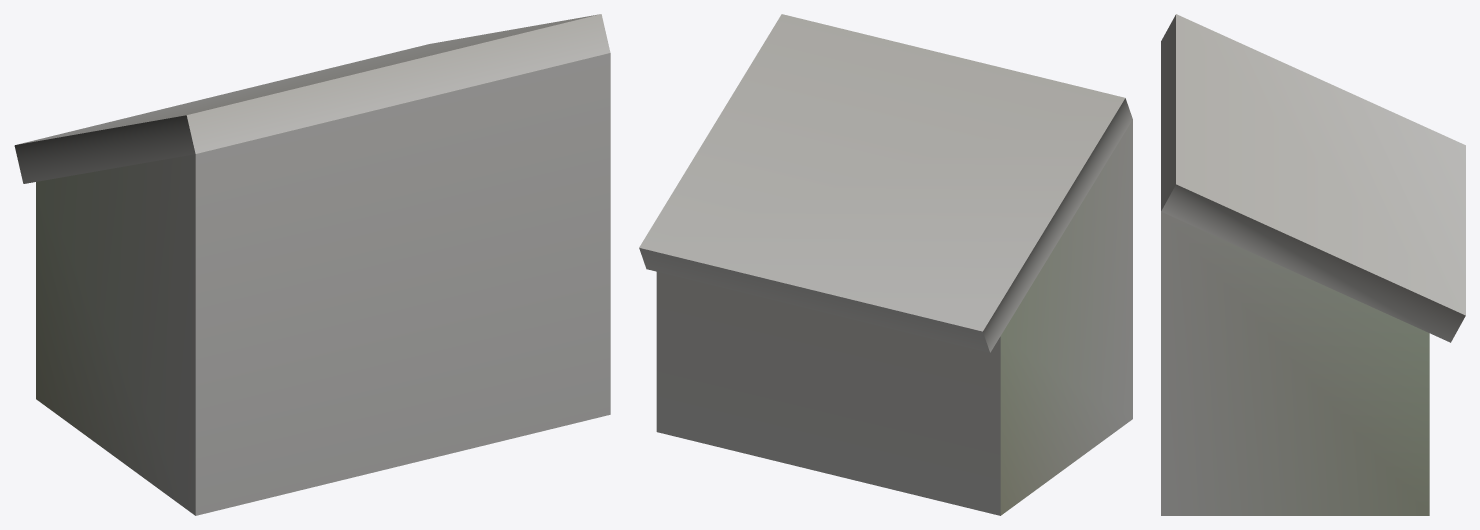
Rendered from detail-dumpster-closed.glb.
3 renders of one model, left to right at view 1: azimuth 30°, elevation 25°; view 2: azimuth 150°, elevation 25°; view 3: azimuth 270°, elevation 25°, orthographic. The views are drawn at different scales.
Parts seen in each view (by area): view 1: detail-dumpster-closed; view 2: detail-dumpster-closed; view 3: detail-dumpster-closed.
Boxes of the visible parts, x1,y1,x2,y2 form: detail-dumpster-closed: (14, 14, 610, 515); detail-dumpster-closed: (639, 14, 1132, 515); detail-dumpster-closed: (1161, 14, 1465, 515).
Bounding box in the file's own units: 0.6 × 0.5447 × 0.4537.
